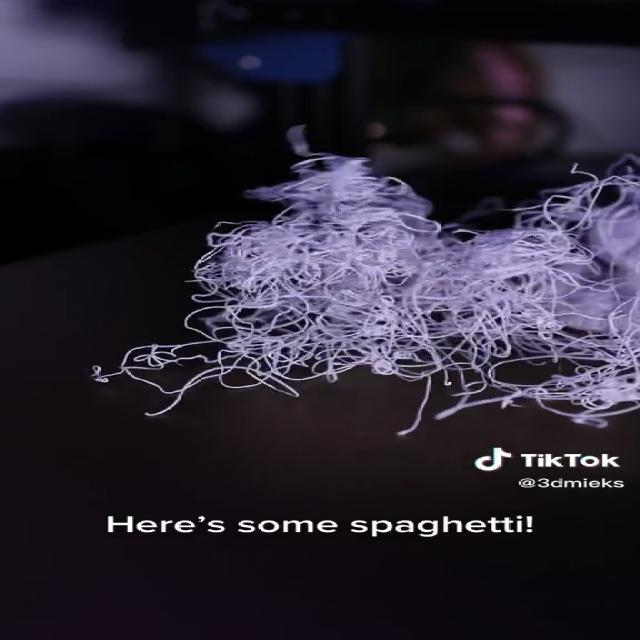spaghetti: (86, 124, 636, 437)
